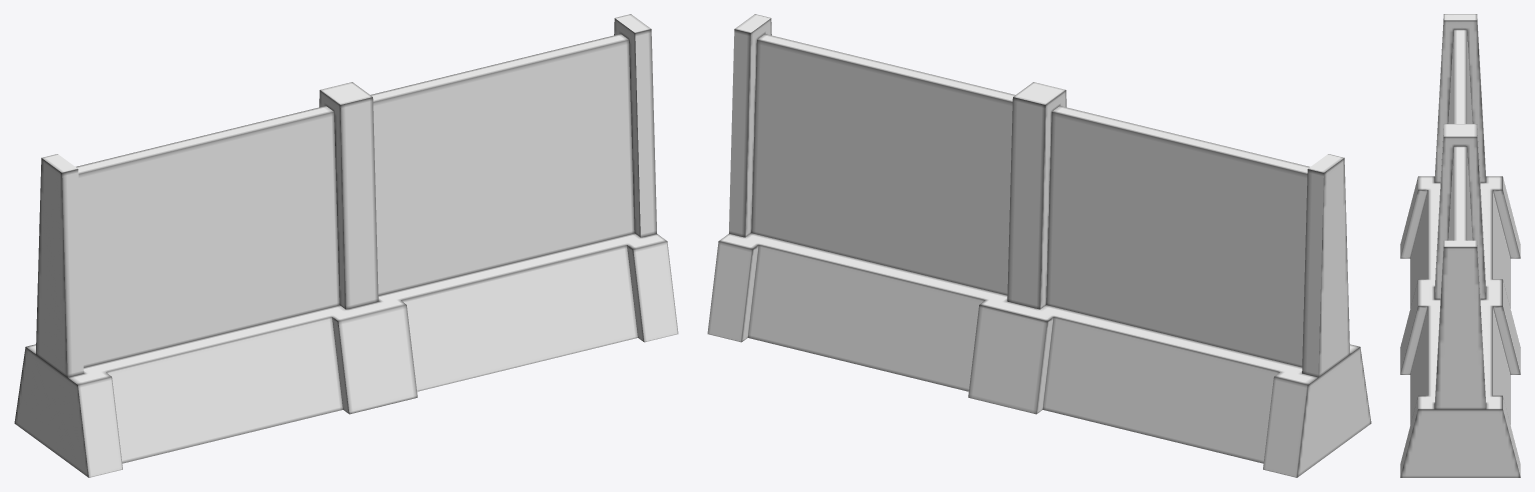
Rendered from Wall-Concrete-01.fbx.
3 renders of one model, left to right at view 1: azimuth 30°, elevation 25°; view 2: azimuth 150°, elevation 25°; view 3: azimuth 270°, elevation 25°, orthographic. The views are drawn at different scales.
Visible parts, largest first — view 1: Wall_Concrete_01; view 2: Wall_Concrete_01; view 3: Wall_Concrete_01.
Boxes of the visible parts, x1,y1,x2,y2 form: Wall_Concrete_01: [14, 14, 678, 477]; Wall_Concrete_01: [707, 14, 1371, 477]; Wall_Concrete_01: [1400, 14, 1520, 477].
Size of the model in its own units: 3 by 1.39 by 0.6558.
